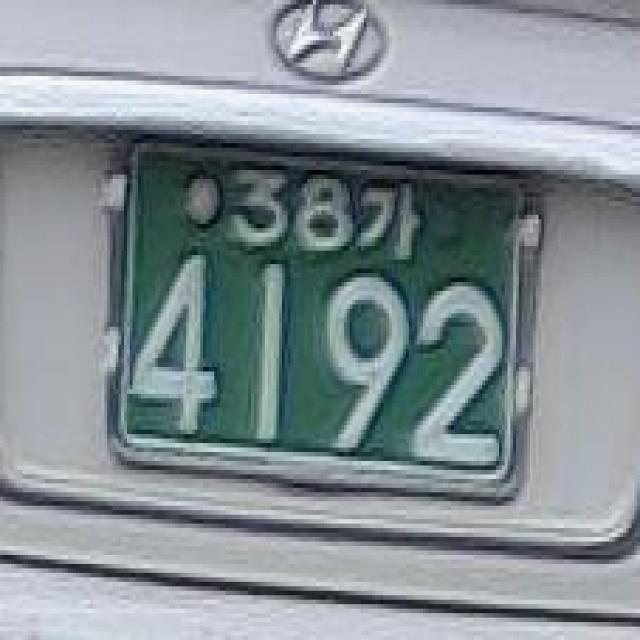illegal_plate: (96, 119, 550, 525)
